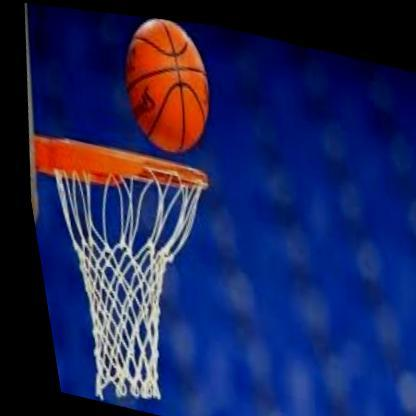basketball: (109, 10, 220, 154)
rim: (18, 131, 233, 414)
